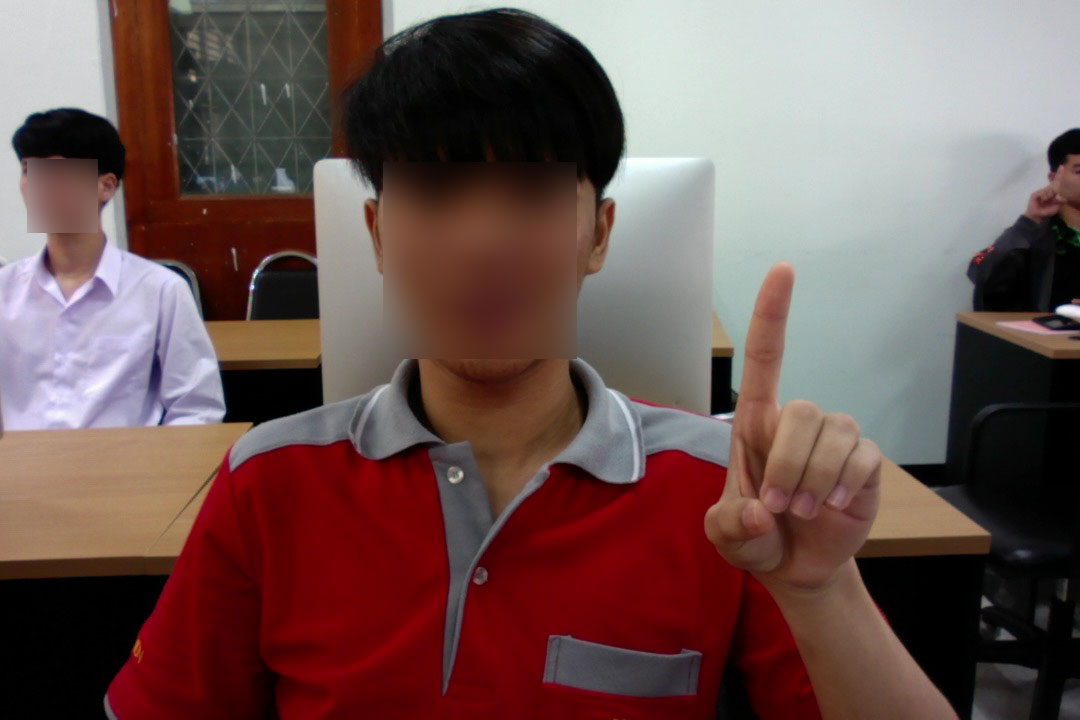dor: (688, 254, 894, 621)
